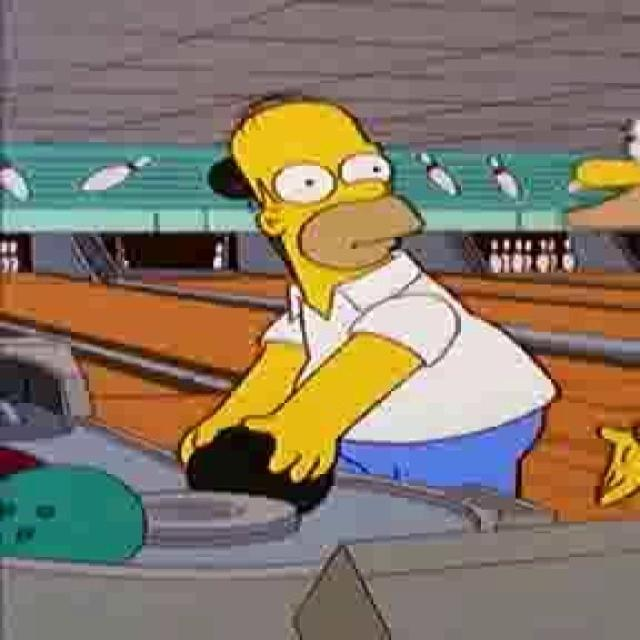Homer Simpson: (224, 90, 429, 301)
